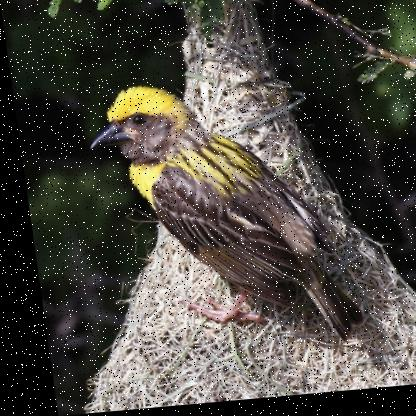Burung: (80, 75, 356, 362)
